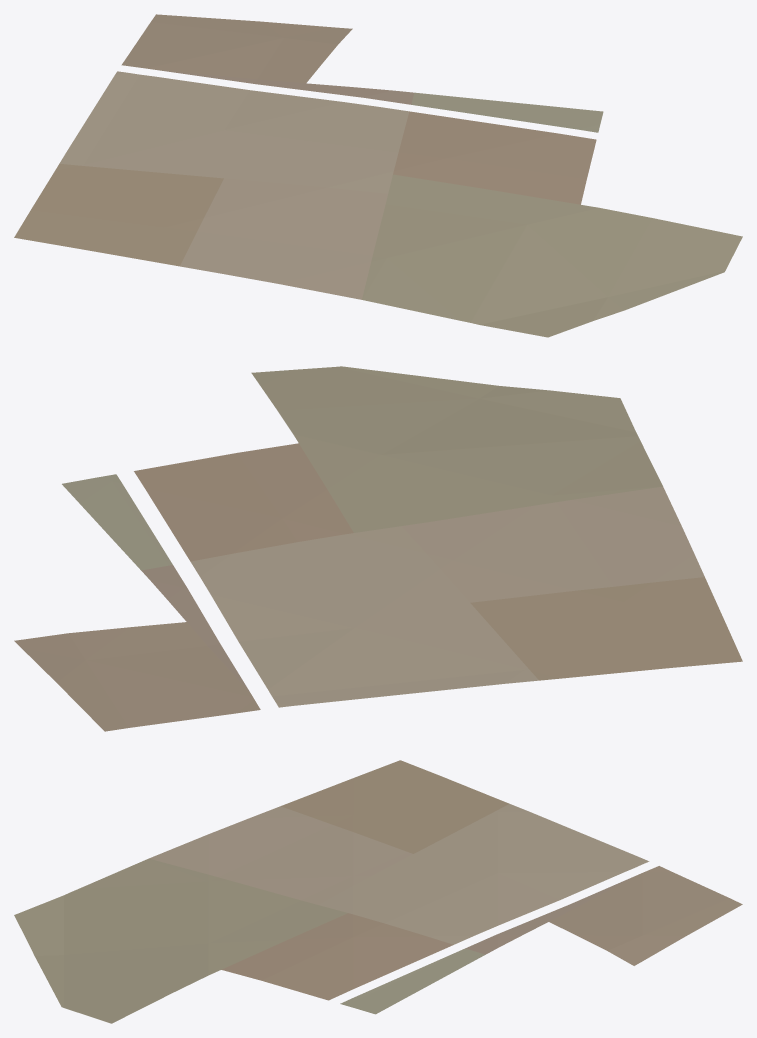
The model's file is farm_-26_-21_soil.glb.
3 renders of one model, top to bottom at view 1: azimuth 30°, elevation 25°; view 2: azimuth 150°, elevation 25°; view 3: azimuth 270°, elevation 25°, orthographic. The views are drawn at different scales.
Parts seen in each view (by area): view 1: geometry_0; view 2: geometry_0; view 3: geometry_0.
Part boxes in pixels (x1,y1,x2,y2): geometry_0: [14, 14, 742, 337]; geometry_0: [14, 366, 742, 731]; geometry_0: [14, 760, 742, 1023].
Size of the model in its own units: 328 by 15.08 by 403.
